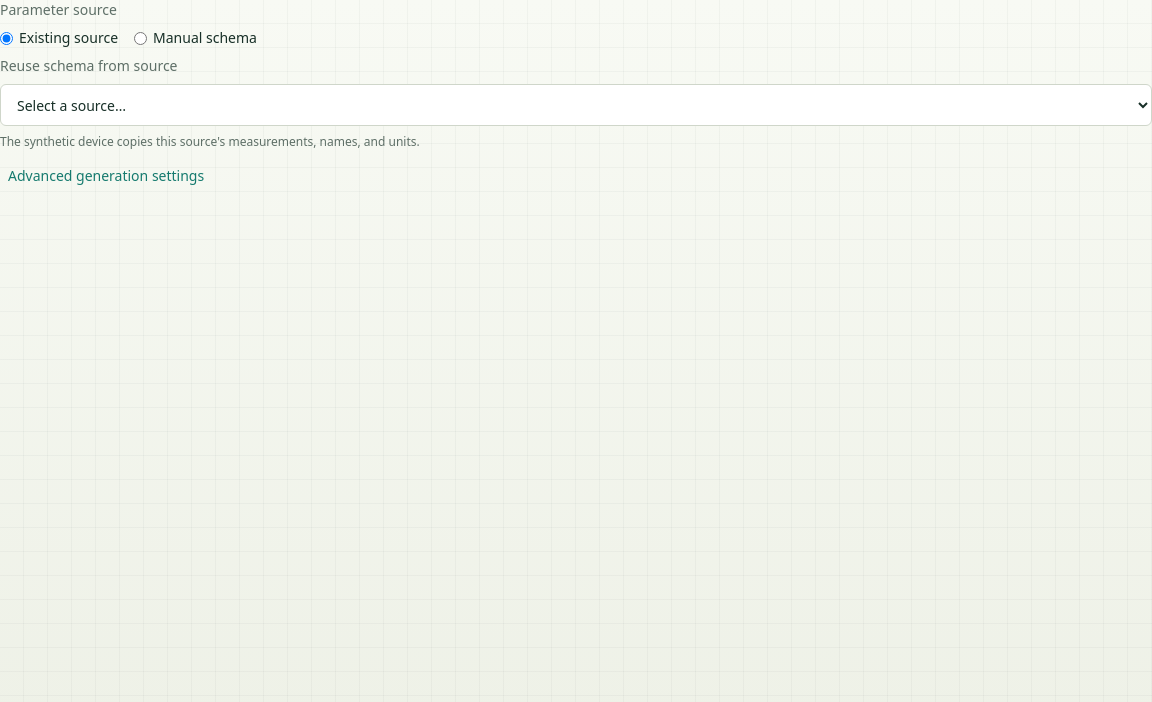
SyntheticProfileStep — select-all / deselect-all (UI-487) › keeps repeatable-results settings out of the main form until requested
Select "Source 1" in the dropdown labelled "Reuse schema from source" at (576, 105), box 0,84 -> 1151,126
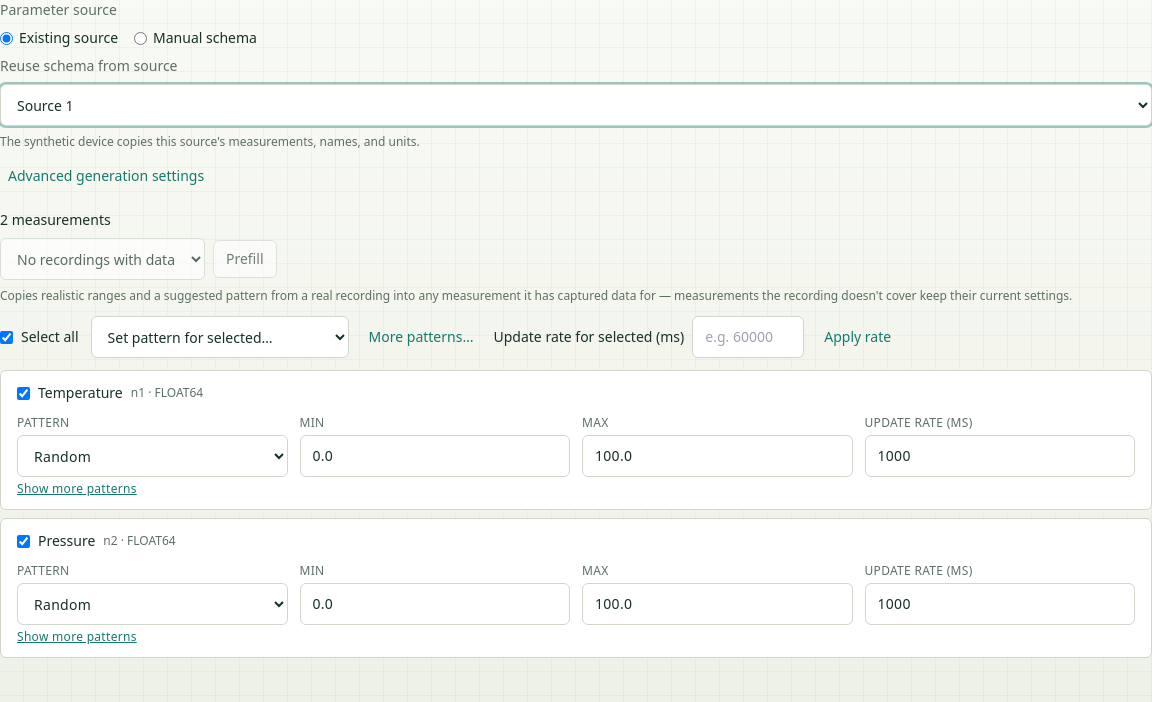
Expected: the number field labelled "Repeatable results" is not shown
Click the button "Advanced generation settings".
click(106, 176)  # box 0,162 -> 212,190
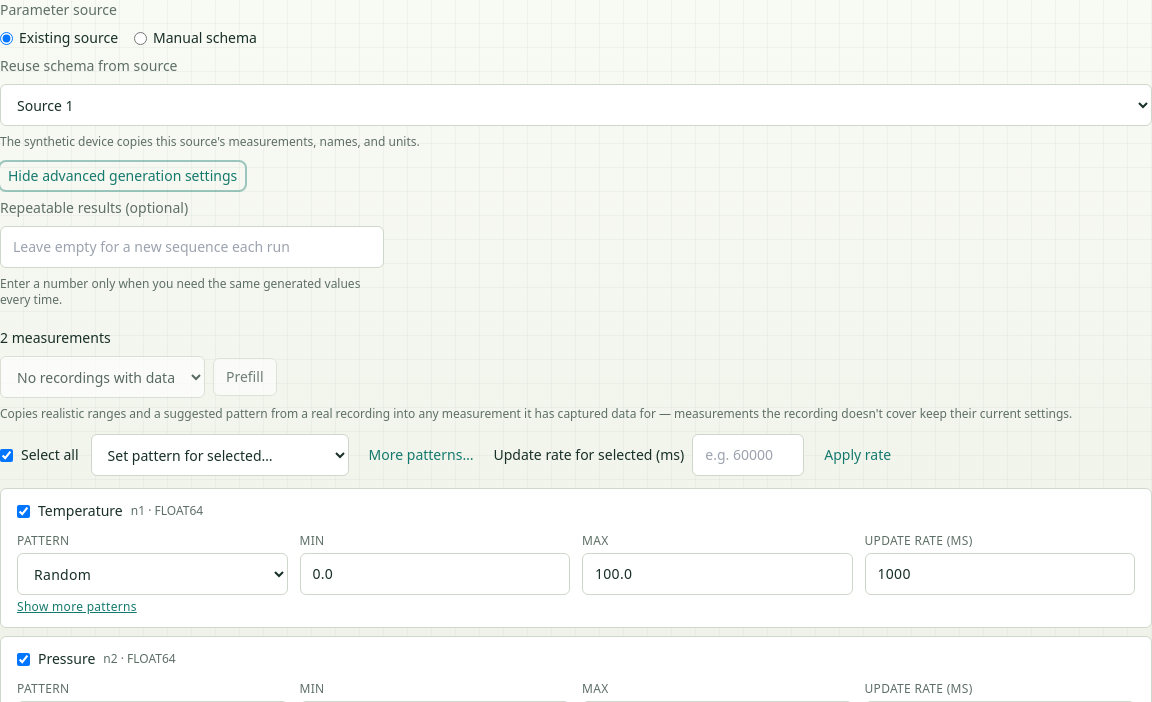
Now the number field labelled "Repeatable results" is shown, box 0,226 -> 384,268
